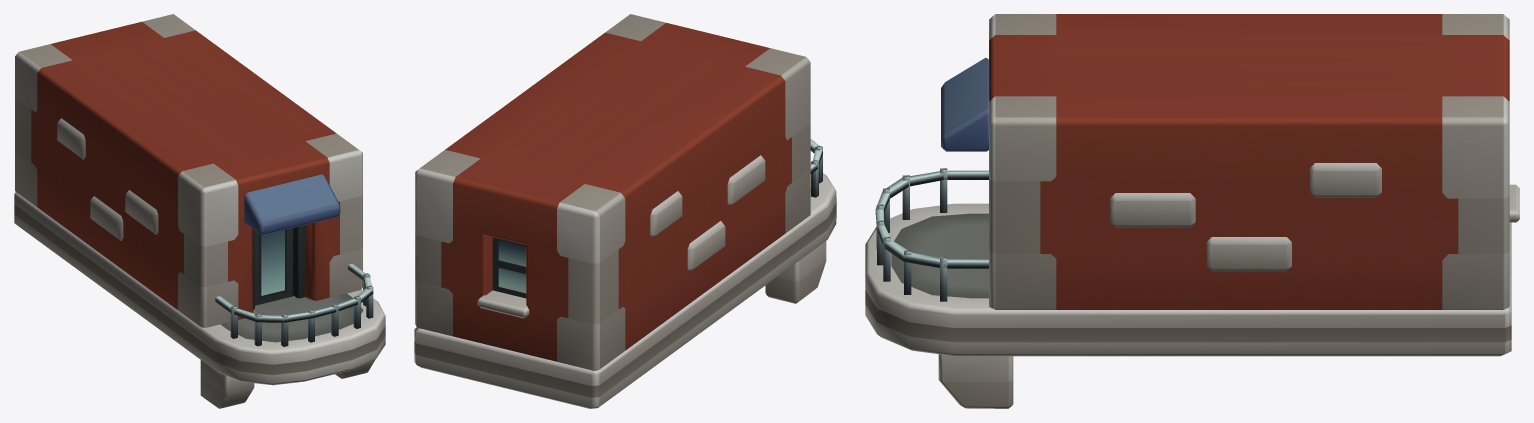
File: appartment_type1_x2_balcony_red.fbx
3 views of the same model, side by side, from view 1: azimuth 30°, elevation 25°; view 2: azimuth 150°, elevation 25°; view 3: azimuth 270°, elevation 25° (orthographic). The views are drawn at different scales.
Parts seen in each view (by area): view 1: appartment_type1_x2_balcony_red, door_appartment_type1_x2_balcony_grey; view 2: appartment_type1_x2_balcony_red; view 3: appartment_type1_x2_balcony_red.
Part boxes in pixels (x1=…): appartment_type1_x2_balcony_red: x1=14, y1=14, x2=385, y2=408; door_appartment_type1_x2_balcony_grey: x1=255, y1=228, x2=293, y2=305; appartment_type1_x2_balcony_red: x1=414, y1=14, x2=836, y2=408; appartment_type1_x2_balcony_red: x1=865, y1=14, x2=1519, y2=408.
Size of the model in its own units: 419 by 505 by 1017.
